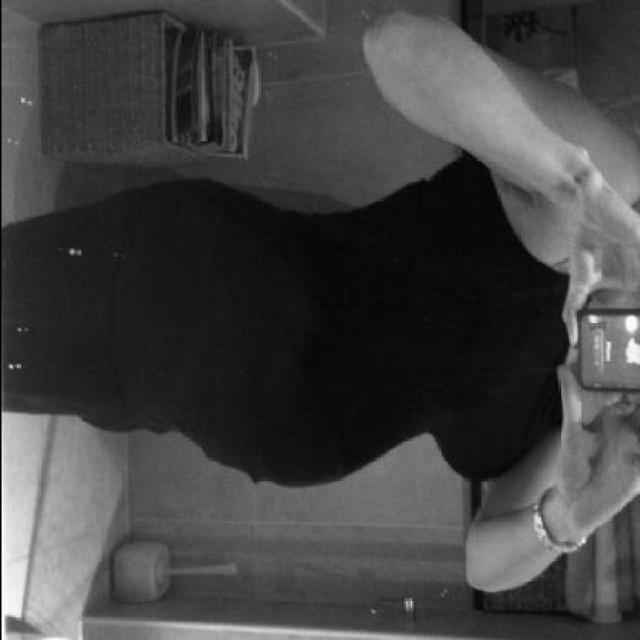fake: (572, 296, 630, 382)
